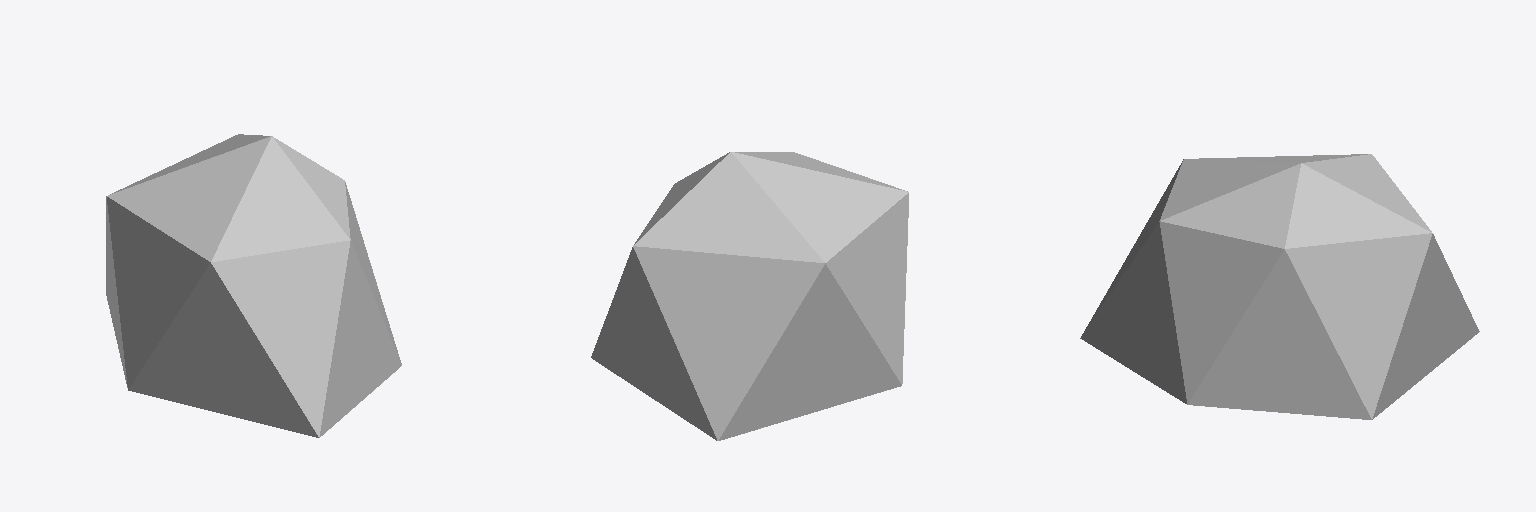
Rendered from rock1.obj.
3 views of the same model, side by side, from view 1: azimuth 30°, elevation 25°; view 2: azimuth 150°, elevation 25°; view 3: azimuth 270°, elevation 25° (orthographic).
Parts seen in each view (by area): view 1: Icosphere_Icosphere.002; view 2: Icosphere_Icosphere.002; view 3: Icosphere_Icosphere.002.
Part boxes in pixels (left/top/right/bottom): Icosphere_Icosphere.002: left=106, top=134, right=401, bottom=437; Icosphere_Icosphere.002: left=591, top=152, right=908, bottom=440; Icosphere_Icosphere.002: left=1080, top=154, right=1479, bottom=419.
Size of the model in its own units: 1.62 by 1.25 by 2.13.